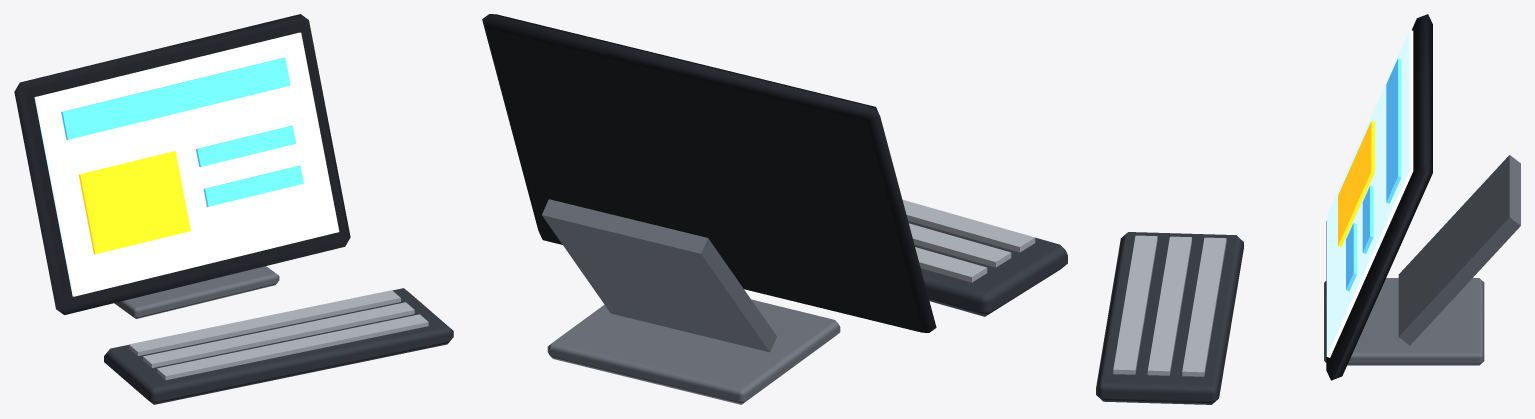
The model's file is station_intake_ausstattung_2_2.glb.
3 views of the same model, side by side, from view 1: azimuth 30°, elevation 25°; view 2: azimuth 150°, elevation 25°; view 3: azimuth 270°, elevation 25° (orthographic). The views are drawn at different scales.
Parts seen in each view (by area): view 1: station_intake_ausstattung_2_2; view 2: station_intake_ausstattung_2_2; view 3: station_intake_ausstattung_2_2.
Boxes of the visible parts, <box> form: station_intake_ausstattung_2_2: <box>14,14,453,404</box>; station_intake_ausstattung_2_2: <box>482,14,1067,404</box>; station_intake_ausstattung_2_2: <box>1096,14,1520,404</box>.
Bounding box in the file's own units: 0.3054 × 0.2147 × 0.3445.
